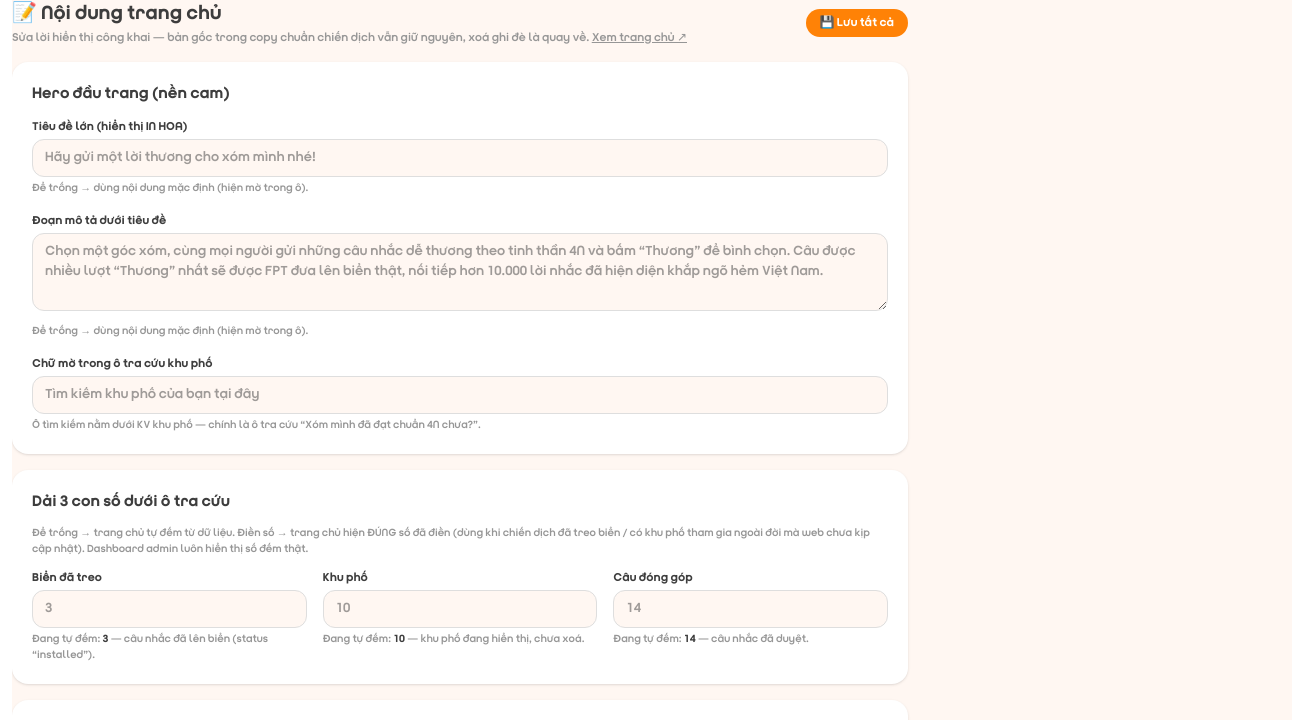
Scenario: /admin/noi-dung · dải 3 con số › chỉ nhận chữ số
Check: the heading "Dải 3 con số dưới ô tra cứu" is shown, box [32, 494, 230, 510]
Type "1a2,5" into the field labelled "Khu phố Đang tự đếm: 10 — khu phố đang hiển thị, chưa xoá." at (460, 609), box [323, 590, 597, 628]
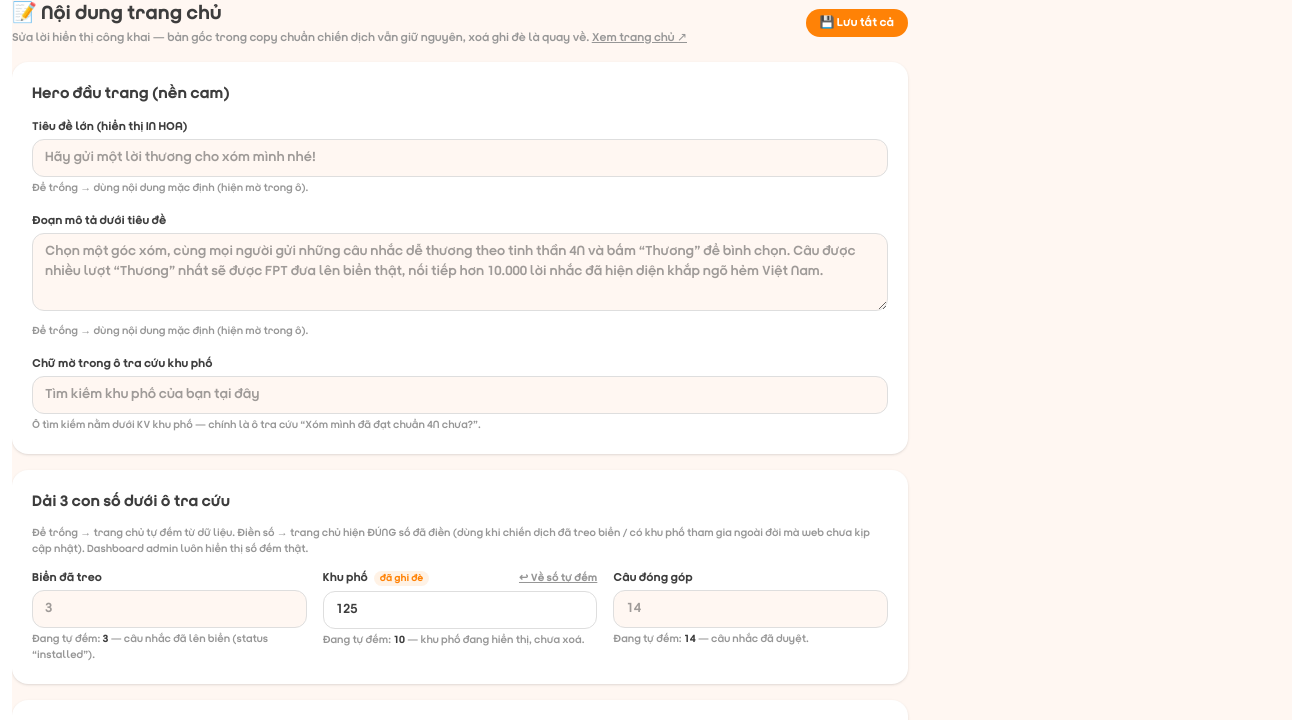
Check: the 4th field holds "125", box [323, 591, 597, 629]
